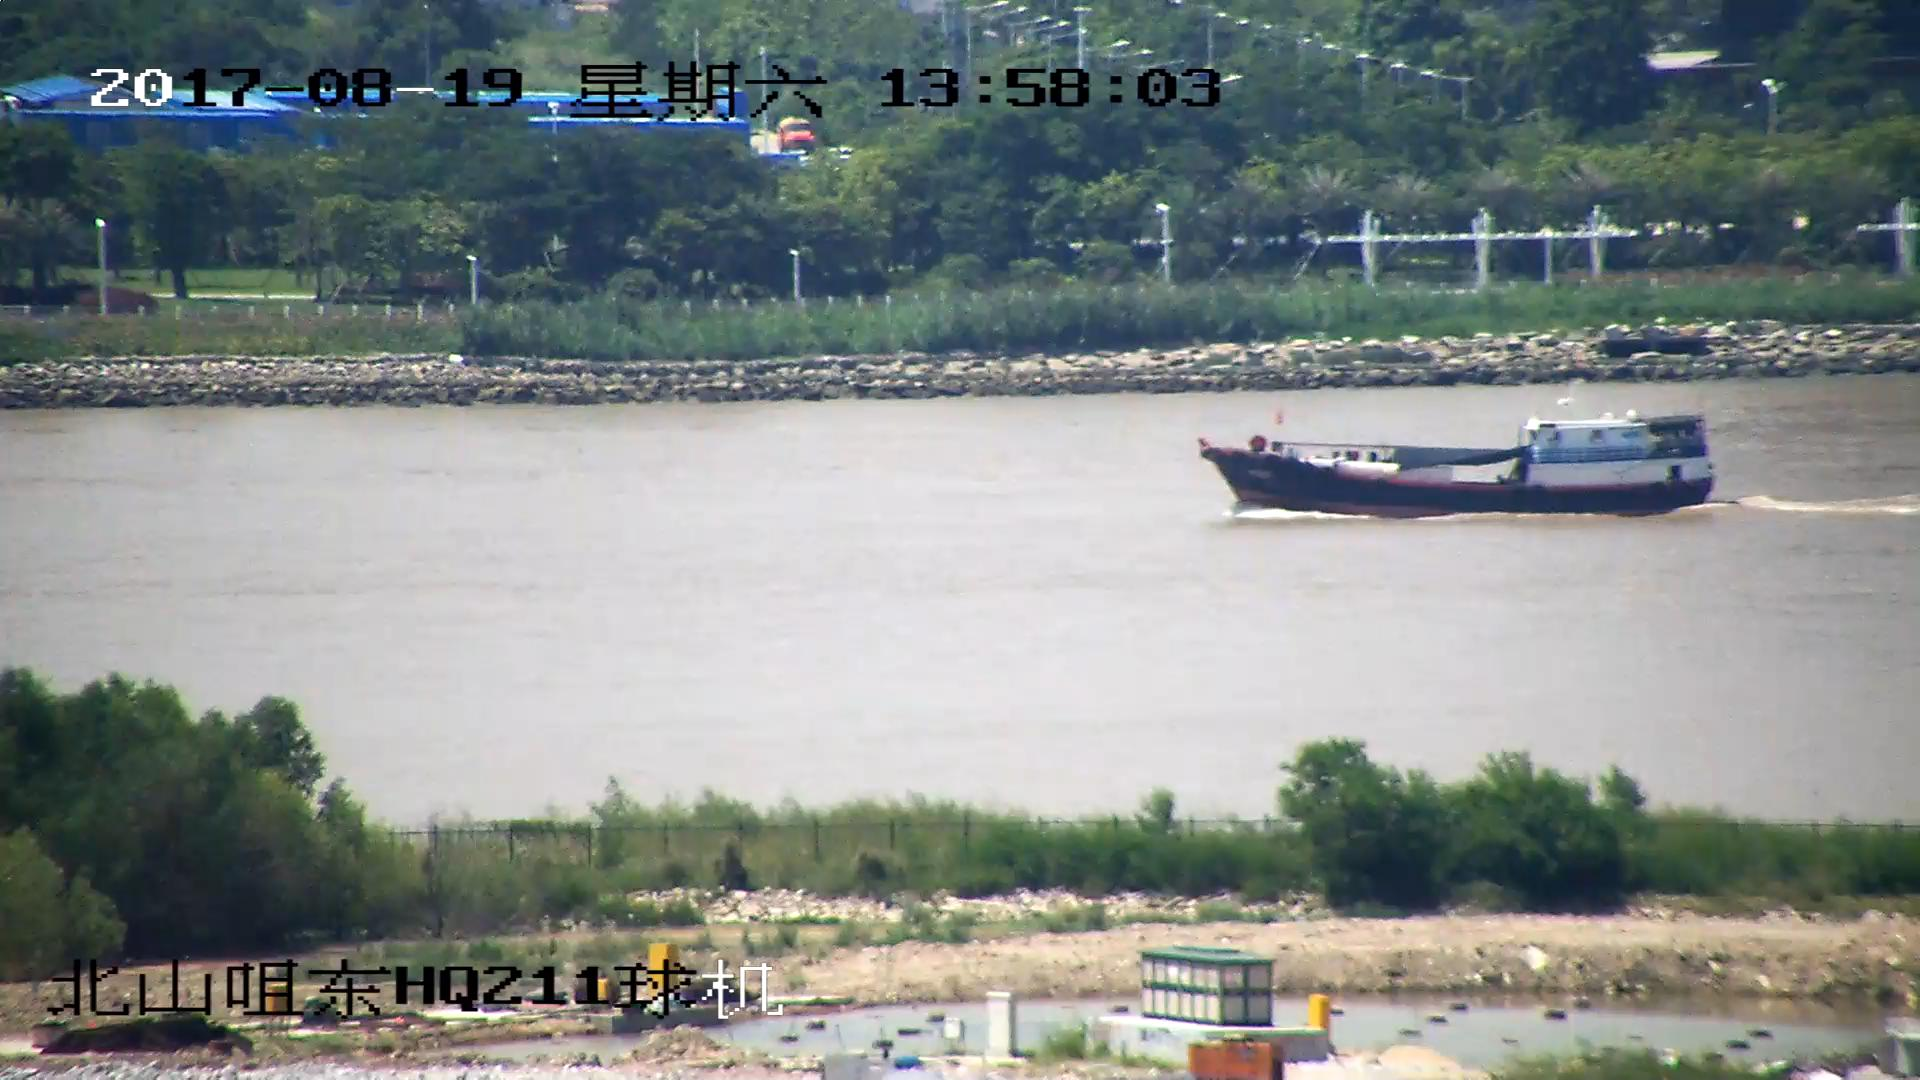fishing boat: (1198, 415, 1716, 516)
